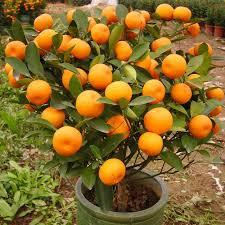orange: (9, 1, 225, 166), (51, 128, 94, 156), (103, 74, 139, 106), (30, 26, 64, 57), (162, 84, 202, 110), (0, 37, 33, 65), (155, 51, 189, 77), (192, 112, 223, 139), (99, 156, 125, 188), (83, 61, 115, 87), (140, 112, 181, 131), (41, 104, 71, 129), (153, 6, 194, 24), (132, 132, 170, 151), (62, 63, 88, 89), (86, 27, 117, 47), (38, 12, 69, 30), (28, 83, 50, 106), (123, 9, 145, 32)
